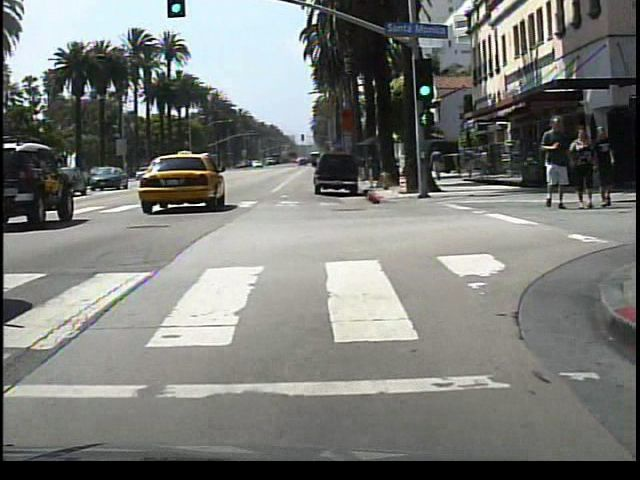person: (536, 112, 570, 216), (567, 126, 598, 214), (590, 124, 617, 210), (426, 144, 447, 185)
